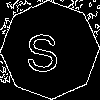S: (25, 25, 60, 72)
